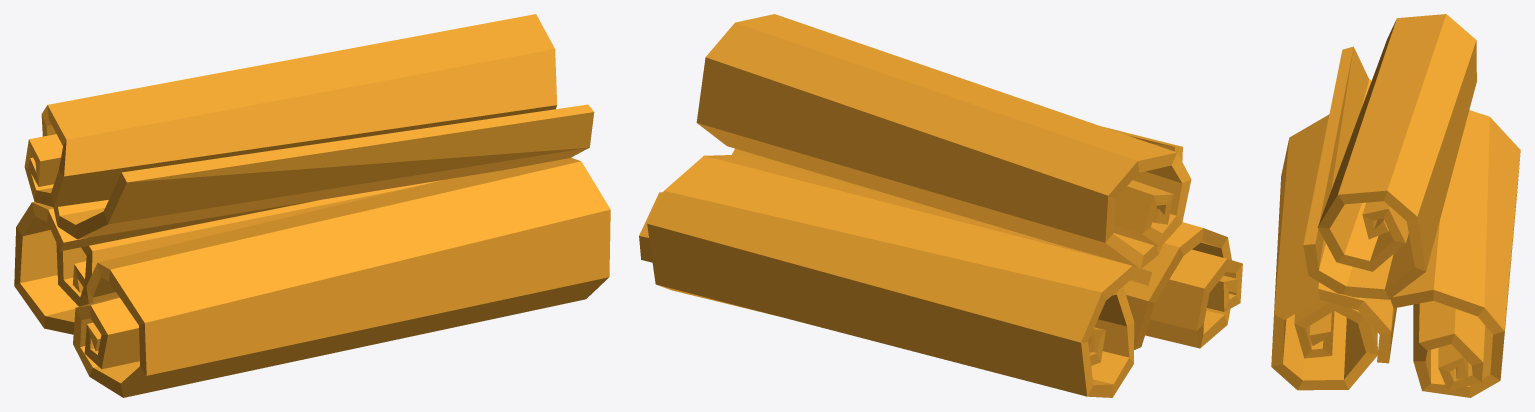
Rendered from SM_Scroll_Bunch.fbx.
3 views of the same model, side by side, from view 1: azimuth 30°, elevation 25°; view 2: azimuth 150°, elevation 25°; view 3: azimuth 270°, elevation 25° (orthographic). The views are drawn at different scales.
Visible parts, largest first — view 1: scroll-bunch; view 2: scroll-bunch; view 3: scroll-bunch.
Part boxes in pixels (x1,y1,x2,y2): scroll-bunch: (14,14,610,397); scroll-bunch: (639,14,1242,397); scroll-bunch: (1271,14,1520,397).
Size of the model in its own units: 0.2897 by 0.1299 by 0.1453.
